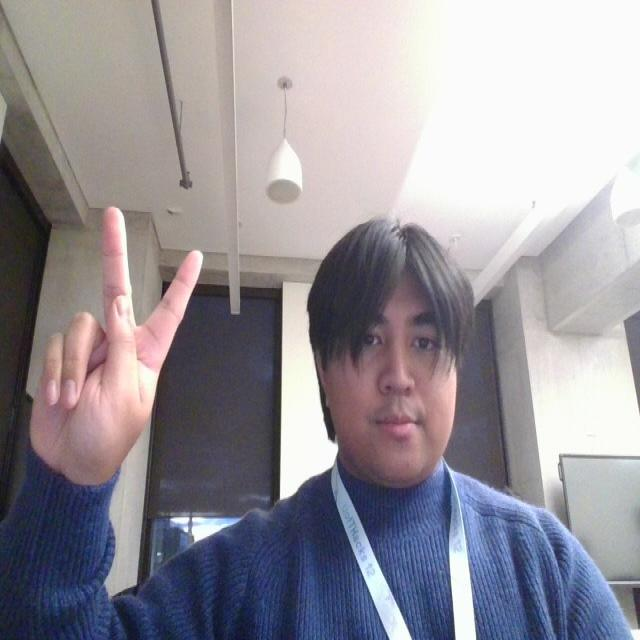Ksign: (26, 201, 210, 488)
